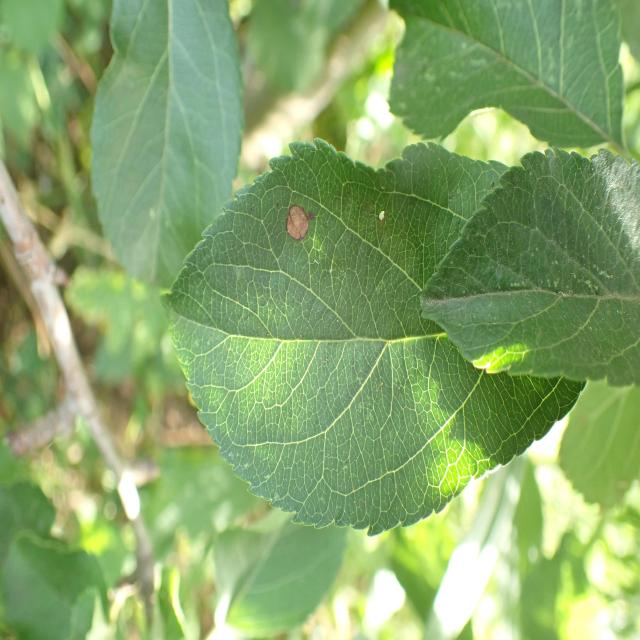Black Rot: (276, 175, 318, 272), (365, 182, 398, 242)
